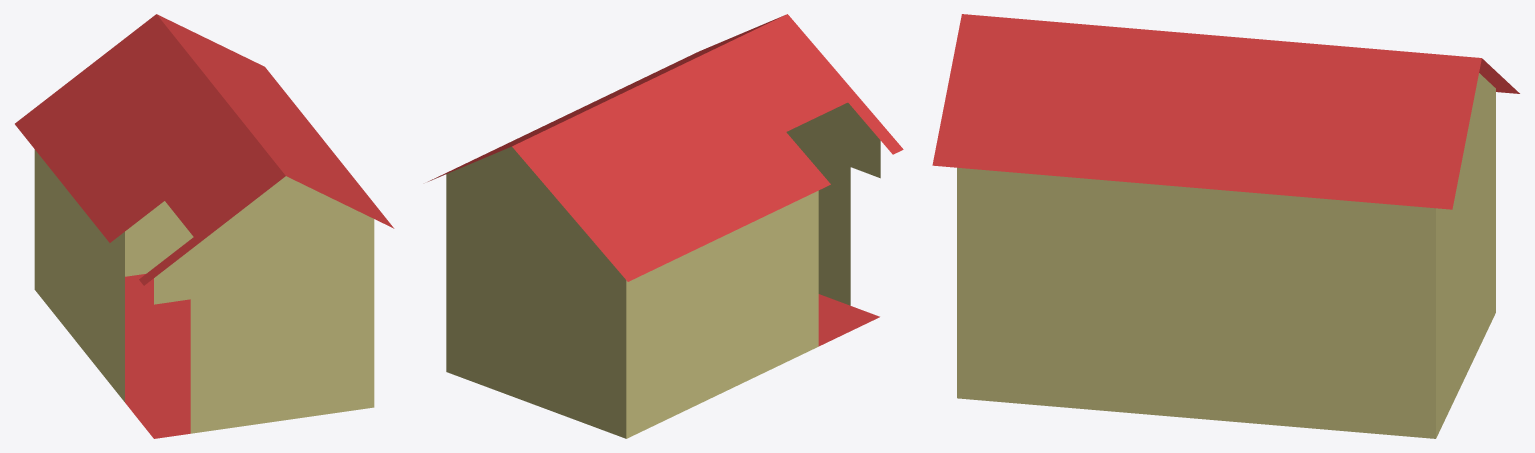
3 views of the same model, side by side, from view 1: azimuth 30°, elevation 25°; view 2: azimuth 150°, elevation 25°; view 3: azimuth 270°, elevation 25° (orthographic). The views are drawn at different scales.
Bounding box in the file's own units: 15.92 × 21.08 × 13.02.
